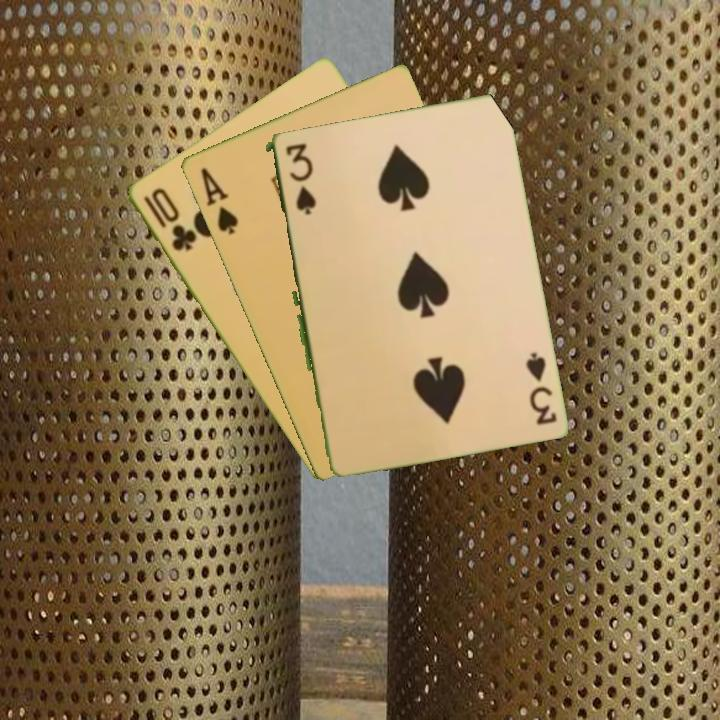10c: (139, 184, 199, 254)
3s: (521, 348, 560, 428), (281, 140, 315, 218)
As: (196, 164, 241, 238)
